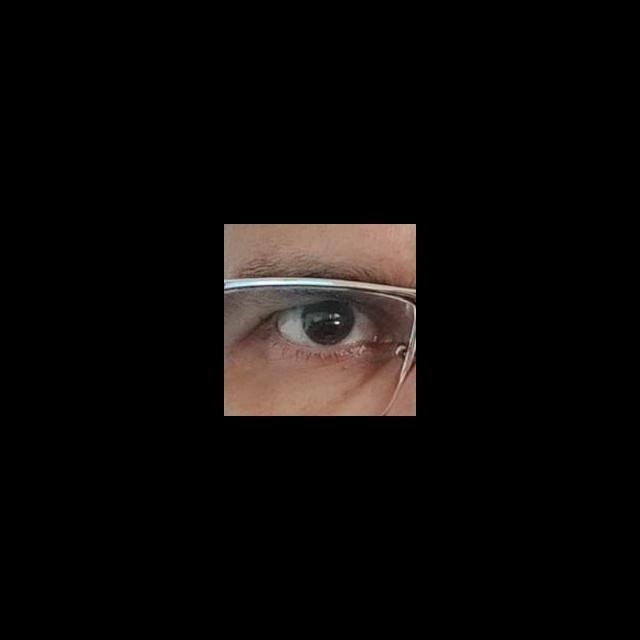eye: (275, 301, 377, 349)
iris: (301, 303, 355, 345)
